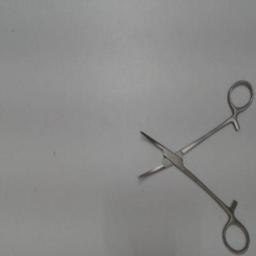Crile Artery Forceps: (130, 76, 254, 254)
